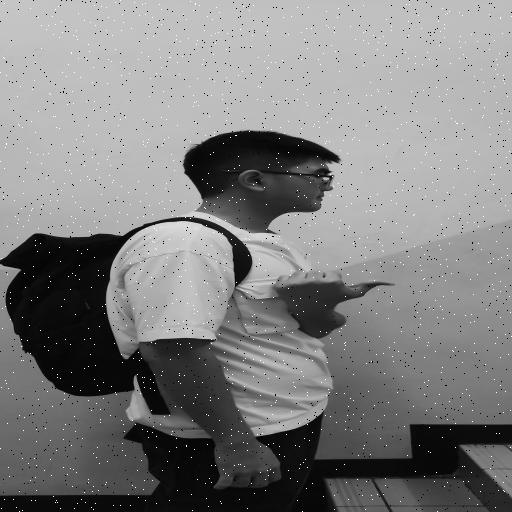back: (246, 255, 410, 322)
